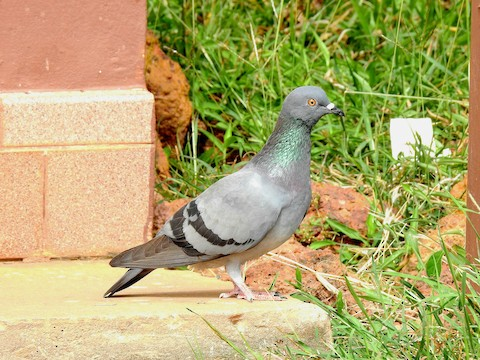pigeon: (101, 80, 346, 306)
